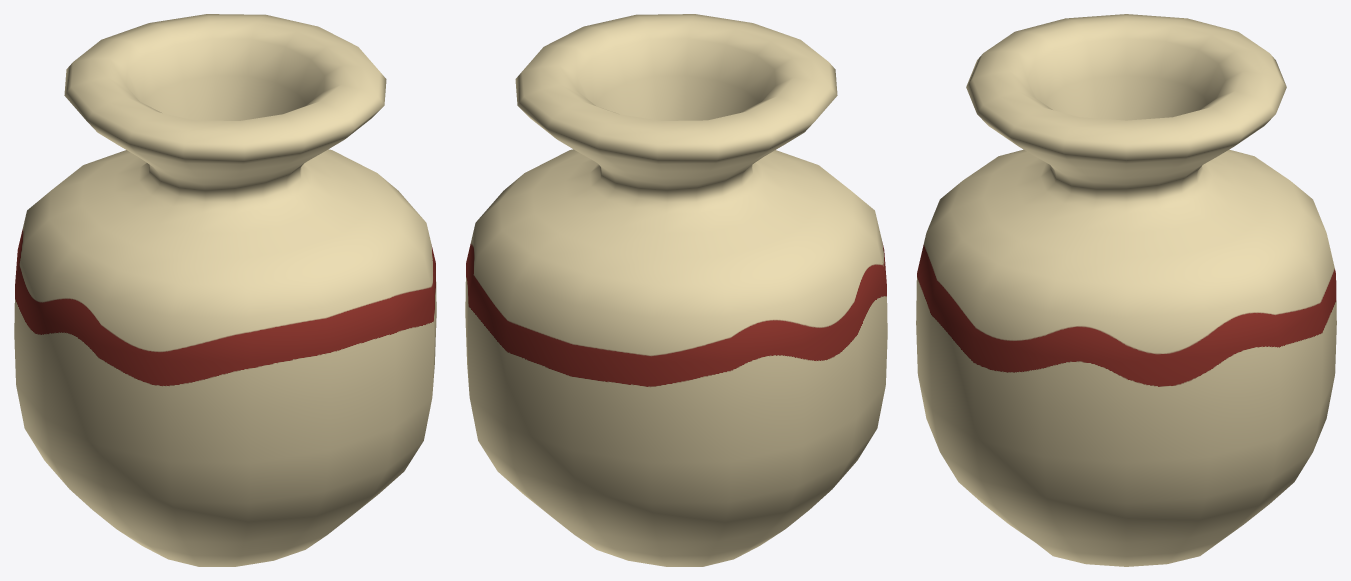
The model's file is WhiteVaseS.fbx.
3 views of the same model, side by side, from view 1: azimuth 30°, elevation 25°; view 2: azimuth 150°, elevation 25°; view 3: azimuth 270°, elevation 25° (orthographic).
Visible parts, largest first — view 1: Cube.001; view 2: Cube.001; view 3: Cube.001.
Part boxes in pixels (left/top/right/bottom): Cube.001: left=14, top=14, right=436, bottom=566; Cube.001: left=465, top=14, right=887, bottom=566; Cube.001: left=916, top=14, right=1336, bottom=566.
Size of the model in its own units: 182 by 219 by 182.
